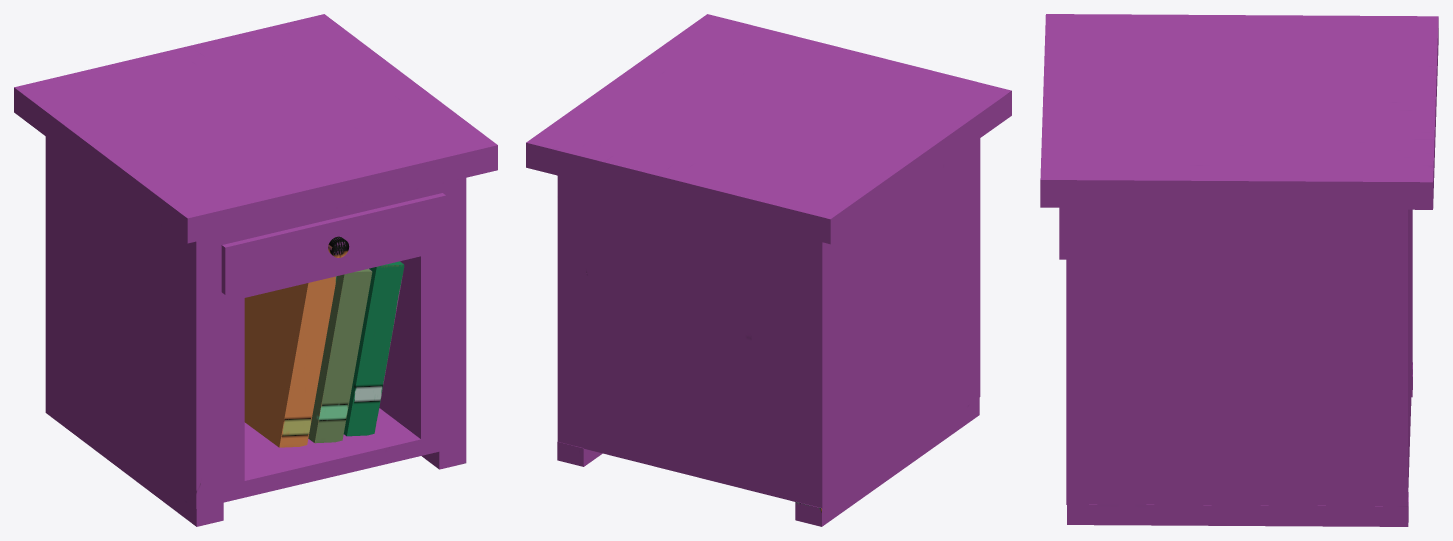
Rendered from buro.obj.
The picture shows the model from 3 angles, left to right: view 1: azimuth 30°, elevation 25°; view 2: azimuth 150°, elevation 25°; view 3: azimuth 270°, elevation 25°; orthographic projection. The views are drawn at different scales.
Visible parts, largest first — view 1: Cubo.003; view 2: Cubo.003; view 3: Cubo.003.
Boxes of the visible parts, x1=… form: Cubo.003: x1=14, y1=14, x2=497, y2=526; Cubo.003: x1=526, y1=14, x2=1011, y2=526; Cubo.003: x1=1040, y1=14, x2=1438, y2=526.
Size of the model in its own units: 5.04 by 4.97 by 5.04.
Materials: 1 (1 with a texture image).
